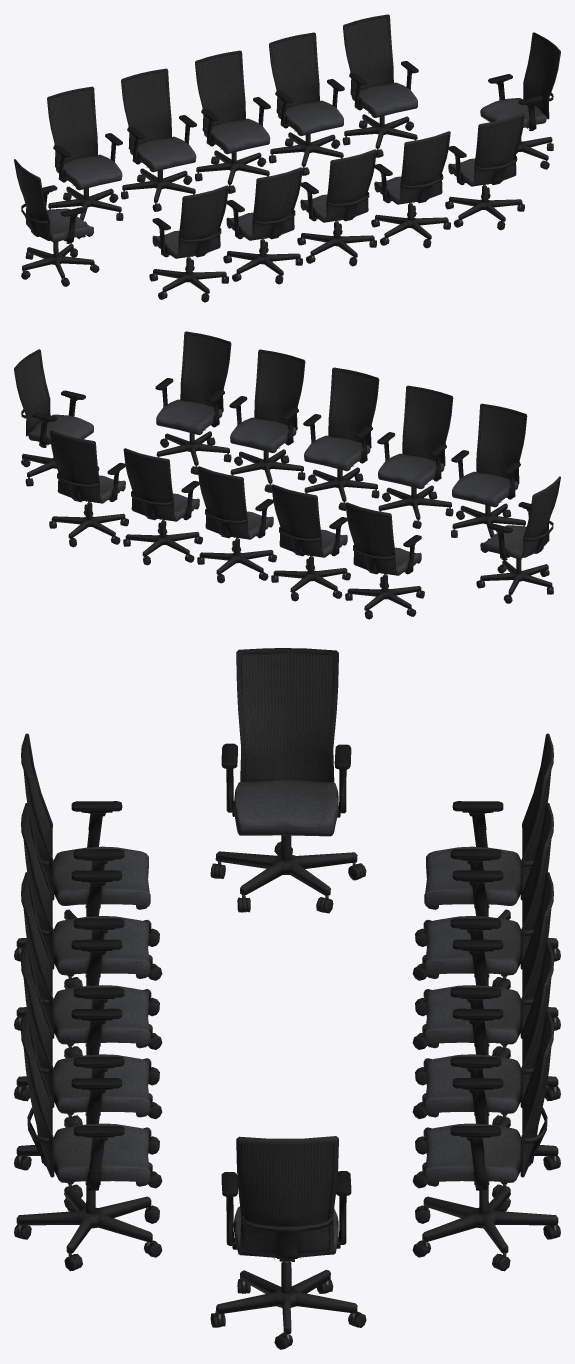
Rendered from Chairs.fbx.
The picture shows the model from 3 angles, top to bottom: view 1: azimuth 30°, elevation 25°; view 2: azimuth 150°, elevation 25°; view 3: azimuth 270°, elevation 25°; orthographic projection. The views are drawn at different scales.
Parts seen in each view (by area): view 1: Chairs.010, Chairs.009, Chairs.007, Chairs.008, Chairs.011, Chairs.003, Chairs.004, Chairs.002, Chairs.005, Chairs.006, Chairs.001, Chairs.012; view 2: Chairs.003, Chairs.004, Chairs.006, Chairs.005, Chairs.002, Chairs.011, Chairs.008, Chairs.010, Chairs.007, Chairs.009, Chairs.012, Chairs.001; view 3: Chairs.012, Chairs.001, Chairs.006, Chairs.007, Chairs.005, Chairs.008, Chairs.004, Chairs.009, Chairs.002, Chairs.011, Chairs.003, Chairs.010.
Part boxes in pixels (bbox=[...]): Chairs.010: bbox=[121, 68, 196, 211]; Chairs.009: bbox=[195, 50, 270, 193]; Chairs.007: bbox=[342, 14, 418, 157]; Chairs.008: bbox=[268, 32, 344, 175]; Chairs.011: bbox=[47, 86, 123, 223]; Chairs.003: bbox=[223, 167, 302, 284]; Chairs.004: bbox=[297, 149, 376, 266]; Chairs.002: bbox=[149, 185, 228, 302]; Chairs.005: bbox=[371, 131, 450, 248]; Chairs.006: bbox=[445, 113, 524, 230]; Chairs.001: bbox=[480, 32, 560, 169]; Chairs.012: bbox=[14, 159, 99, 286]; Chairs.003: bbox=[377, 385, 453, 528]; Chairs.004: bbox=[303, 367, 379, 510]; Chairs.006: bbox=[155, 331, 231, 474]; Chairs.005: bbox=[229, 349, 305, 492]; Chairs.002: bbox=[451, 403, 527, 540]; Chairs.011: bbox=[345, 502, 424, 619]; Chairs.008: bbox=[123, 448, 202, 565]; Chairs.010: bbox=[271, 484, 350, 601]; Chairs.007: bbox=[49, 430, 128, 547]; Chairs.009: bbox=[197, 466, 276, 583]; Chairs.012: bbox=[476, 476, 560, 603]; Chairs.001: bbox=[14, 349, 99, 486]; Chairs.012: bbox=[210, 648, 366, 913]; Chairs.001: bbox=[210, 1136, 366, 1349]; Chairs.006: bbox=[14, 1010, 162, 1271]; Chairs.007: bbox=[412, 1010, 560, 1271]; Chairs.005: bbox=[14, 941, 162, 1197]; Chairs.008: bbox=[412, 941, 560, 1197]; Chairs.004: bbox=[14, 872, 162, 1127]; Chairs.009: bbox=[412, 872, 560, 1127]; Chairs.002: bbox=[14, 733, 162, 987]; Chairs.011: bbox=[412, 733, 560, 987]; Chairs.003: bbox=[14, 802, 162, 1058]; Chairs.010: bbox=[412, 802, 560, 1058].
Size of the model in its own units: 1713 by 335 by 795.
